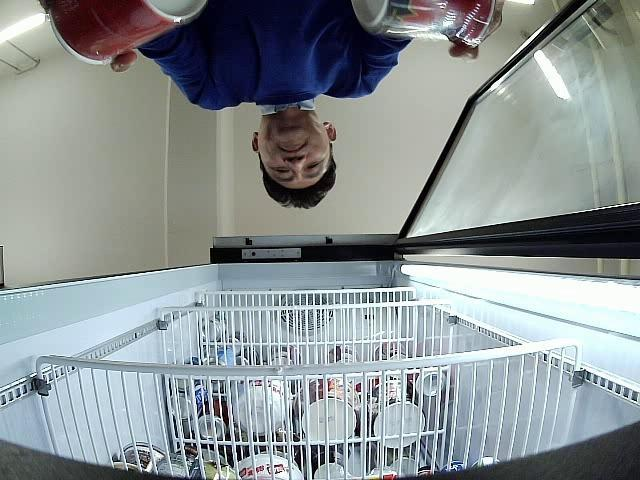01_ShinRamen_L: (48, 0, 207, 64), (352, 0, 496, 48)
